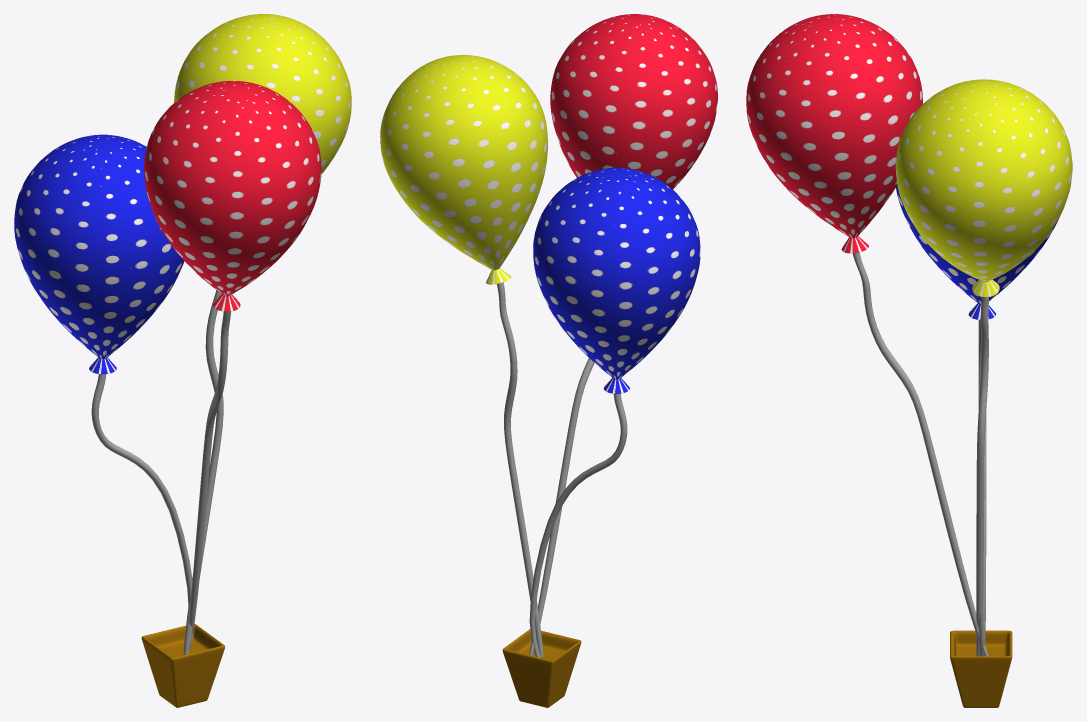
The model's file is balloonsFBX.fbx.
The picture shows the model from 3 angles, left to right: view 1: azimuth 30°, elevation 25°; view 2: azimuth 150°, elevation 25°; view 3: azimuth 270°, elevation 25°; orthographic projection. The views are drawn at different scales.
Visible parts, largest first — view 1: yballoon, rballoon, bballoon, pot; view 2: bballoon, rballoon, yballoon, pot; view 3: yballoon, bballoon, pot, rballoon.
Part boxes in pixels (x1,y1,x2,y2): yballoon: (144, 80, 321, 649); rballoon: (14, 134, 194, 648); bballoon: (174, 14, 351, 654); pot: (141, 624, 224, 707); bballoon: (380, 55, 547, 657); rballoon: (529, 167, 700, 657); yballoon: (529, 14, 717, 655); pot: (502, 629, 581, 707); yballoon: (746, 14, 988, 656); bballoon: (895, 79, 1072, 656); pot: (950, 630, 1012, 707); rballoon: (896, 185, 1058, 656).
Bounding box in the file's own units: 3.68 × 7.5 × 3.31.
Materials: 5 (3 with a texture image).
